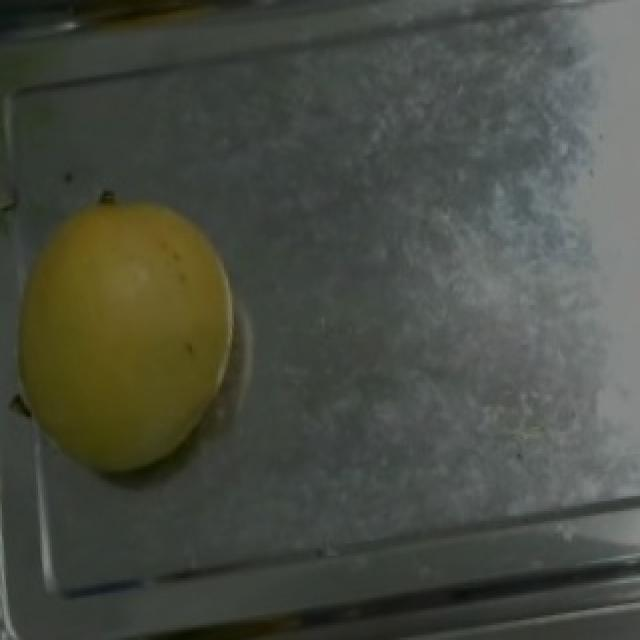fruit: (2, 164, 282, 504)
